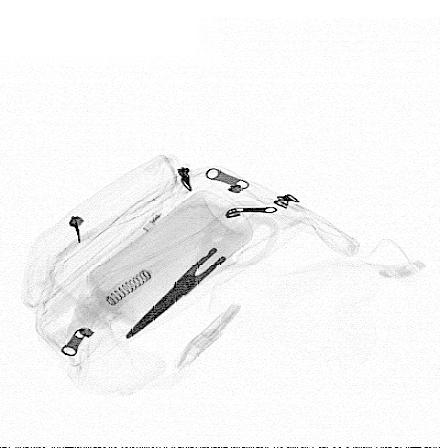Scissors: (125, 200, 277, 344)
